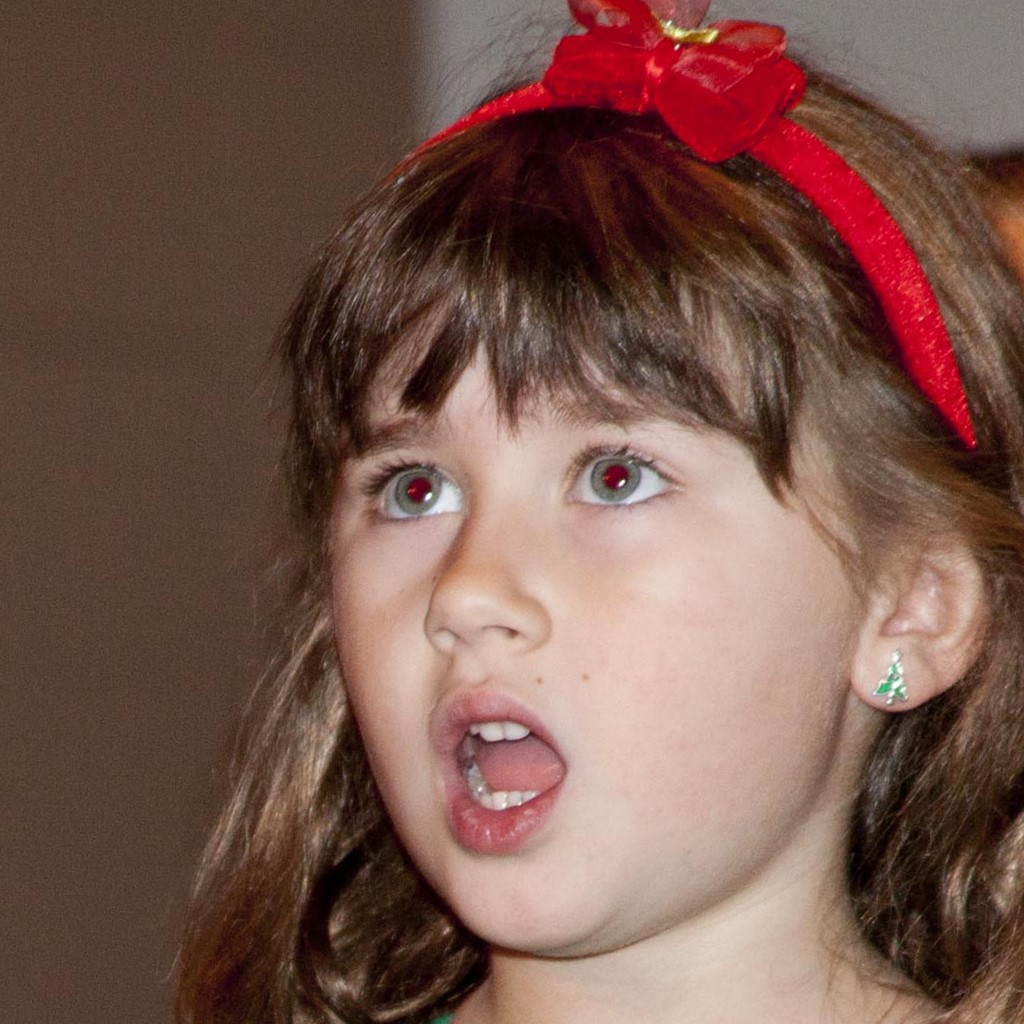sin_mascara: (316, 164, 950, 967)
